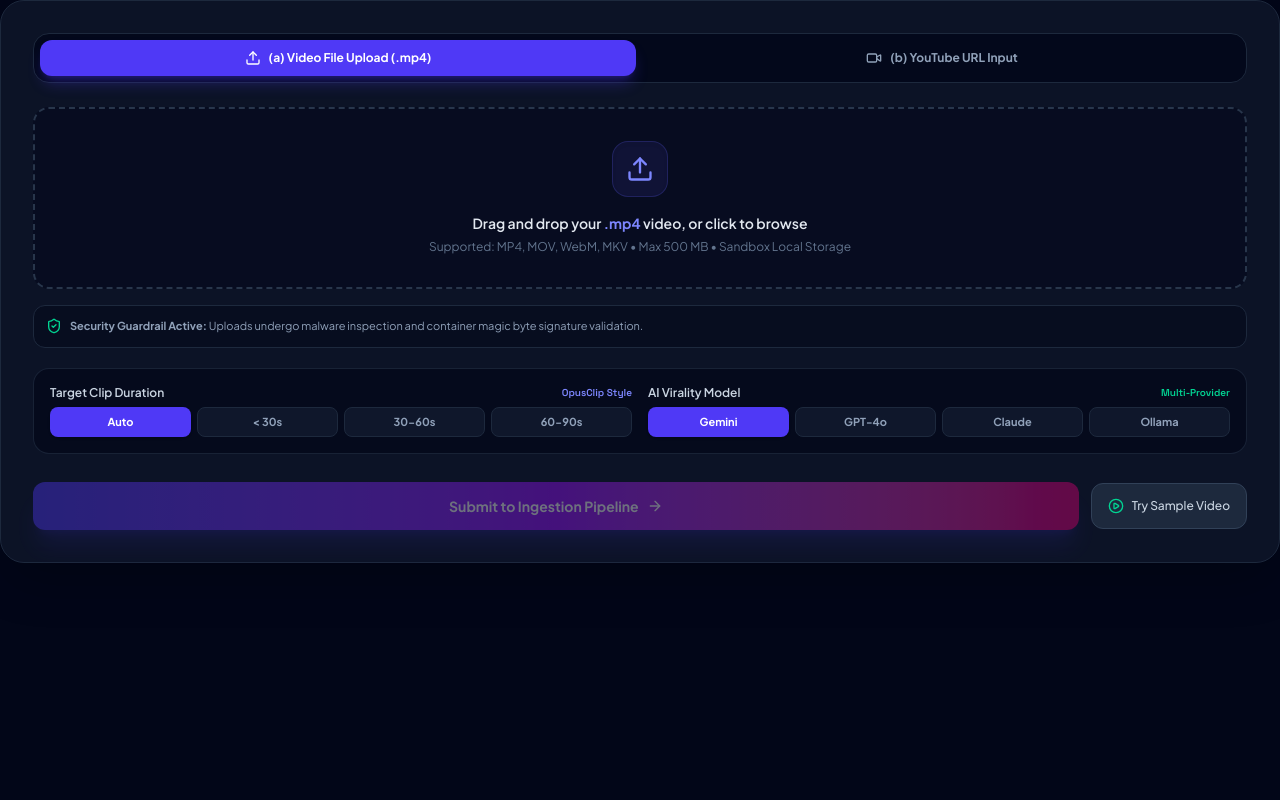
Test: IngestionFlow Component › validates non-YouTube URLs before submitting
Click the button "(b) YouTube URL Input": (942, 58) 644,40 -> 1240,76
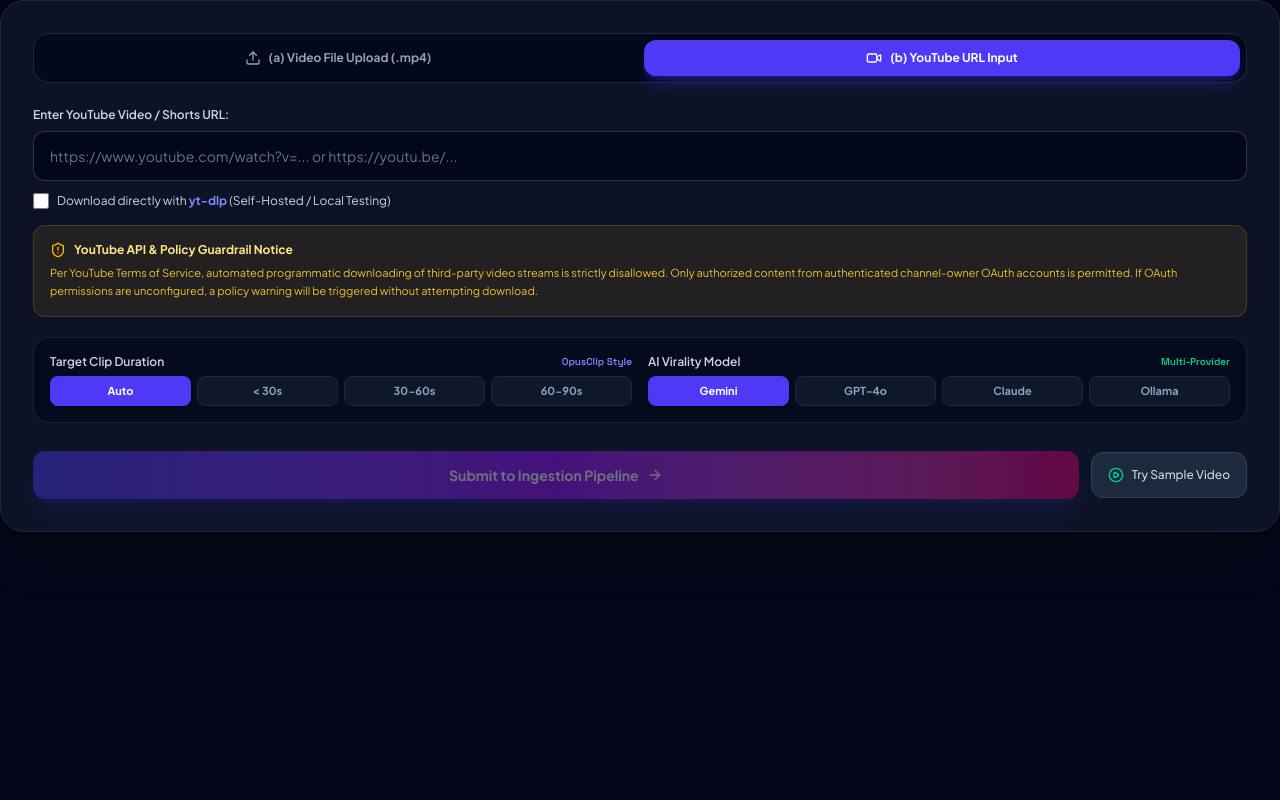
In the field with placeholder "https://www.youtube.com/watch?v=... or https://youtu.be/...": (640, 156) 33,131 -> 1247,181, type "https://vimeo.com/123456789"
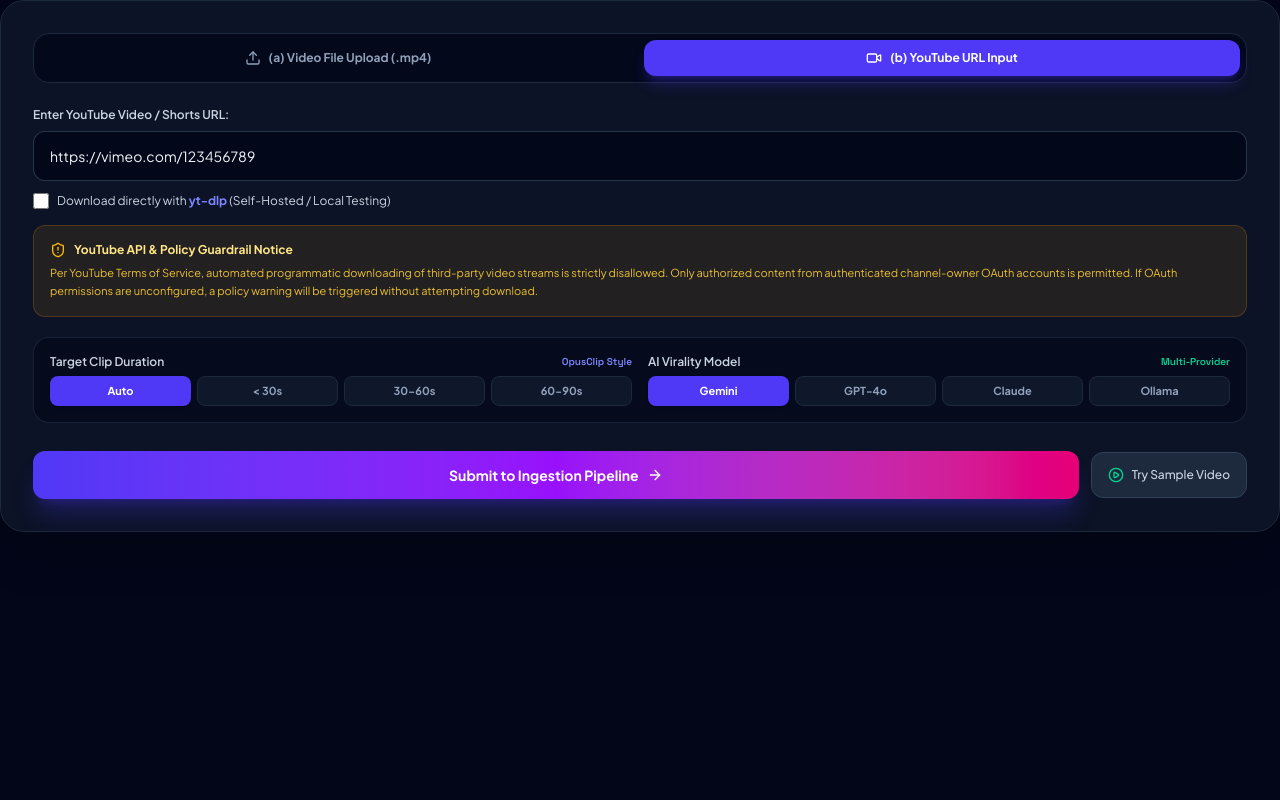
Click the button "Submit to Ingestion Pipeline": (556, 475) 33,451 -> 1079,499
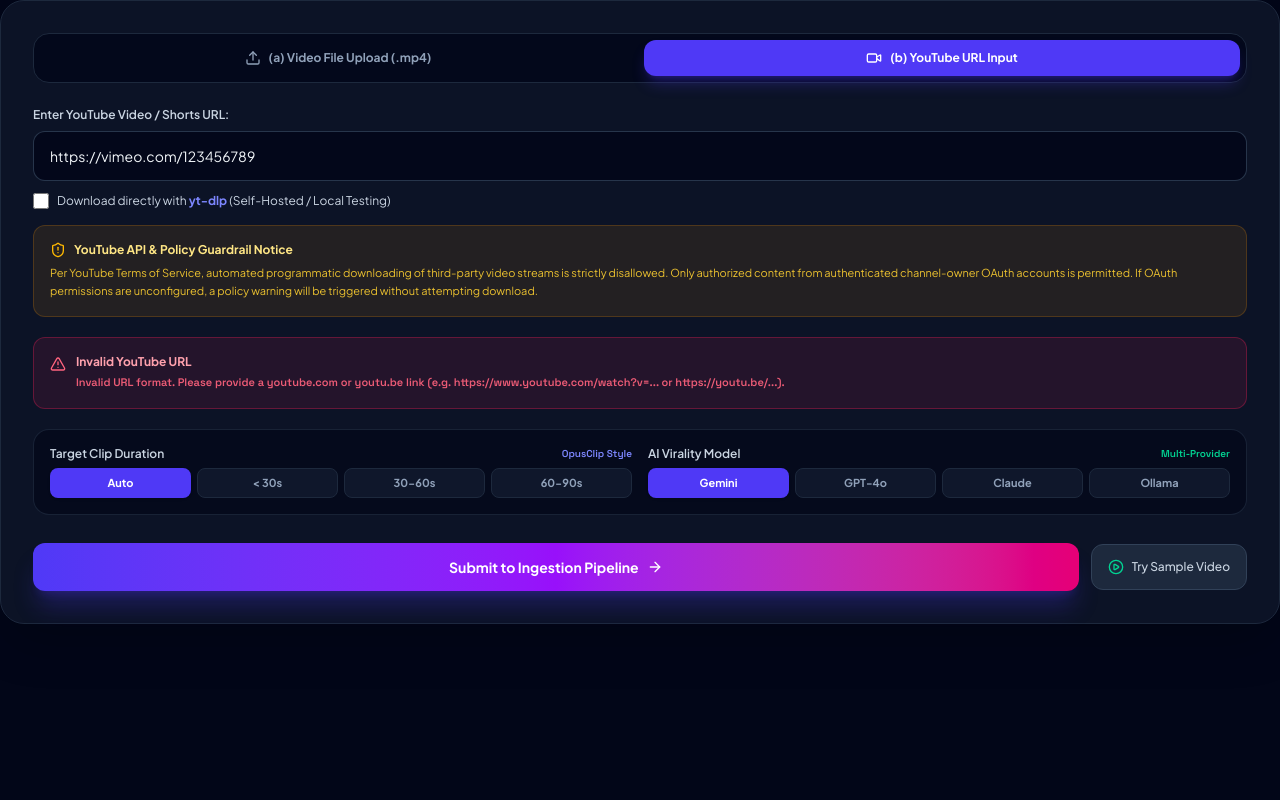
Expected: the text "Invalid YouTube URL" is shown, 76,354 -> 192,369
